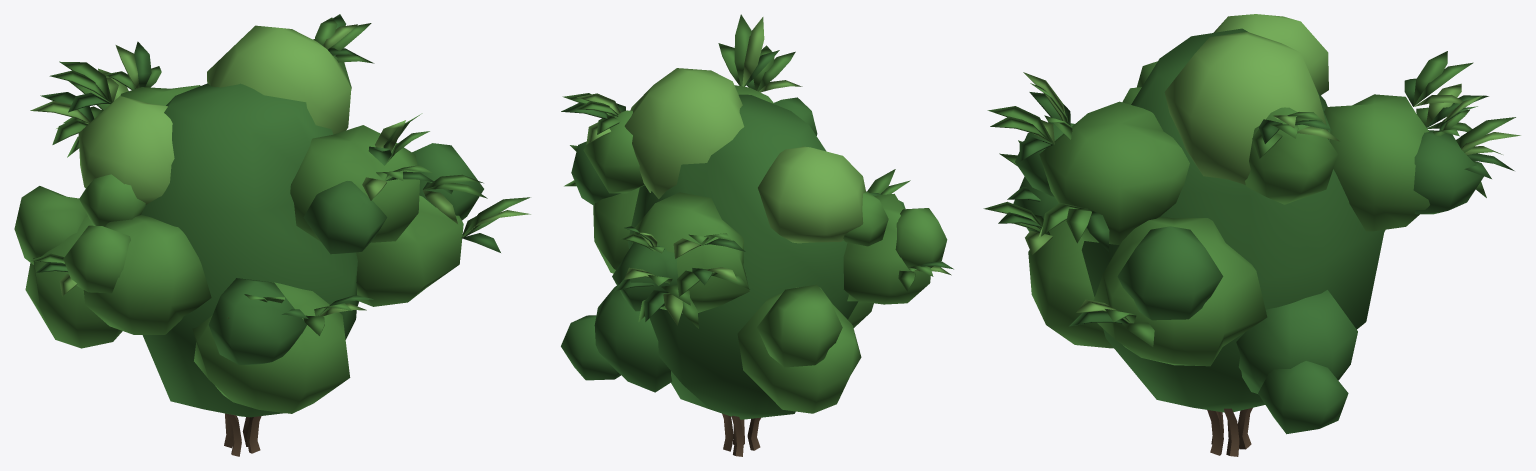
The model's file is bushSmall.glb.
3 renders of one model, left to right at view 1: azimuth 30°, elevation 25°; view 2: azimuth 150°, elevation 25°; view 3: azimuth 270°, elevation 25°, orthographic. The views are drawn at different scales.
Visible parts, largest first — view 1: bushSmall; view 2: bushSmall; view 3: bushSmall.
Part boxes in pixels (x1=…): bushSmall: x1=14, y1=14, x2=530, y2=456; bushSmall: x1=561, y1=14, x2=953, y2=456; bushSmall: x1=983, y1=14, x2=1520, y2=456.
Size of the model in its own units: 0.832 by 0.707 by 0.782.
